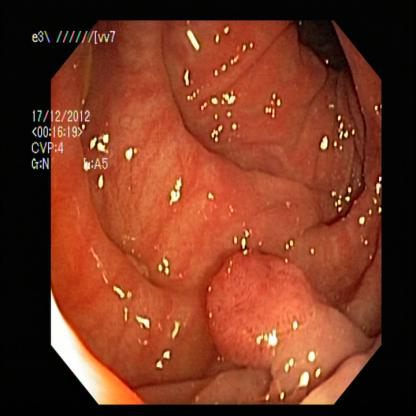Labels: (31, 107, 118, 182), (29, 30, 123, 66)
Polyps: (205, 230, 351, 385)
